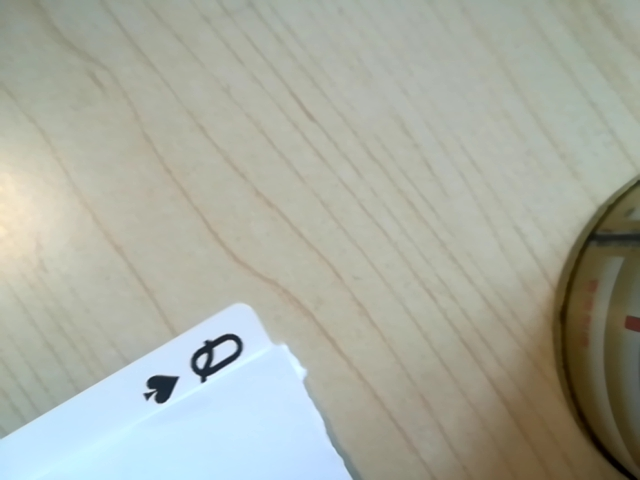ht q: (123, 325, 265, 409)
